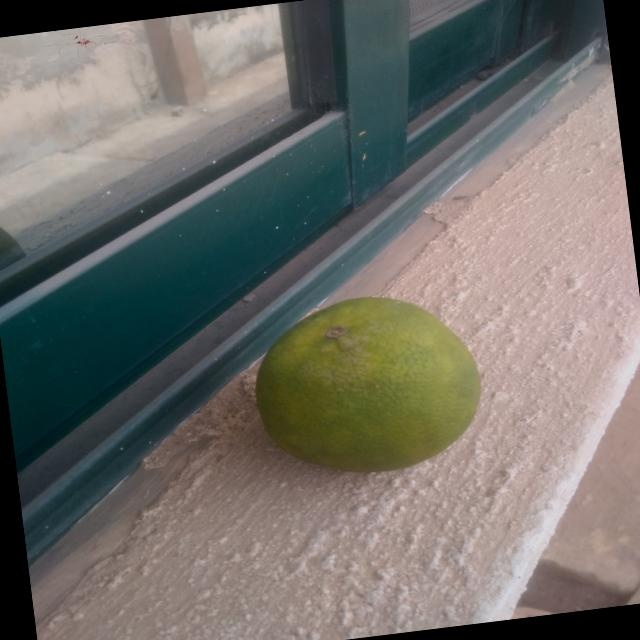agrume: (204, 265, 521, 530)
